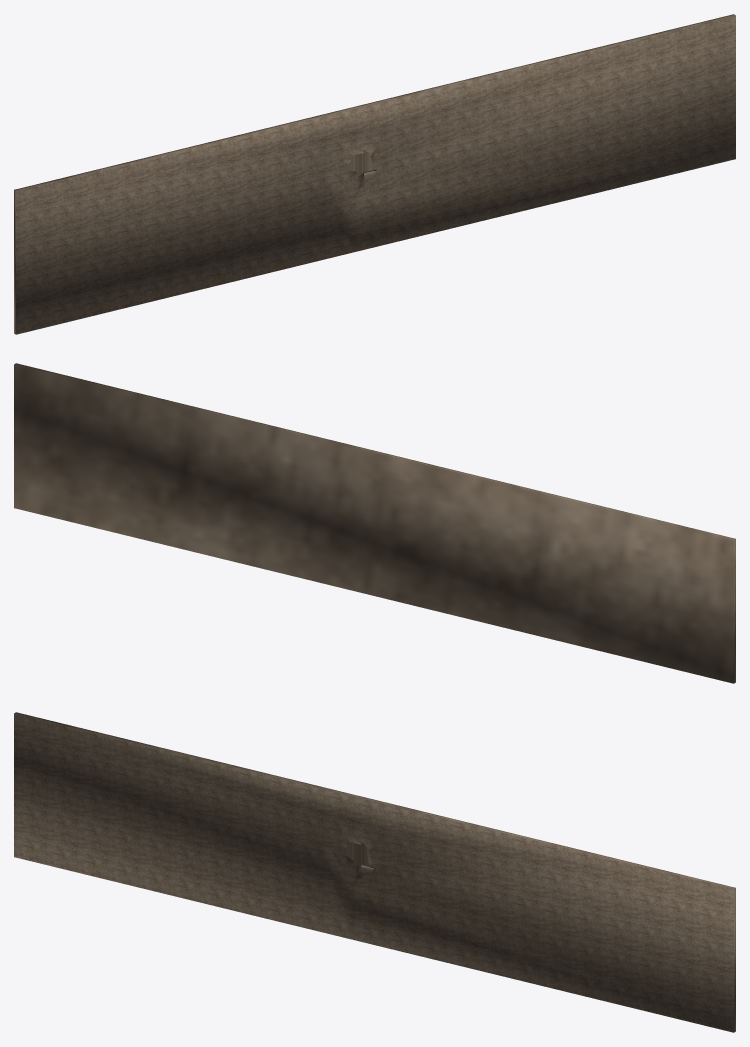
Rendered from mdl_dormitory_wall_clear.fbx.
3 renders of one model, top to bottom at view 1: azimuth 30°, elevation 25°; view 2: azimuth 150°, elevation 25°; view 3: azimuth 330°, elevation 25°, orthographic.
Visible parts, largest first — view 1: mesh_wall_long.002; view 2: mesh_wall_long.002; view 3: mesh_wall_long.002.
Part boxes in pixels (x1,y1,x2,y2): mesh_wall_long.002: (14, 14, 735, 334); mesh_wall_long.002: (14, 363, 735, 683); mesh_wall_long.002: (14, 712, 735, 1032).
Size of the model in its own units: 21 by 4 by 0.1801.
